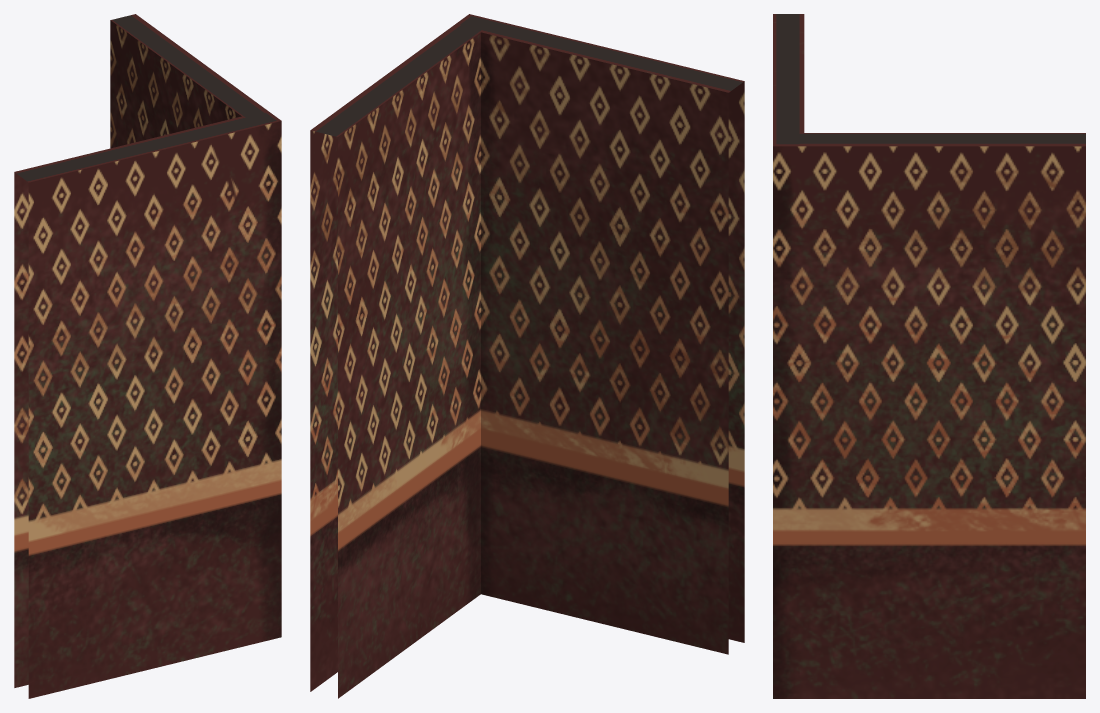
The model's file is Wall corner in.fbx.
3 views of the same model, side by side, from view 1: azimuth 30°, elevation 25°; view 2: azimuth 150°, elevation 25°; view 3: azimuth 270°, elevation 25° (orthographic). The views are drawn at different scales.
Visible parts, largest first — view 1: Wall_corner_outside; view 2: Wall_corner_outside; view 3: Wall_corner_outside.
Part boxes in pixels (x1=…): Wall_corner_outside: x1=14, y1=14, x2=281, y2=698; Wall_corner_outside: x1=310, y1=14, x2=744, y2=698; Wall_corner_outside: x1=773, y1=14, x2=1085, y2=698.
Size of the model in its own units: 1 by 1.95 by 1.
Materials: 1 (1 with a texture image).
